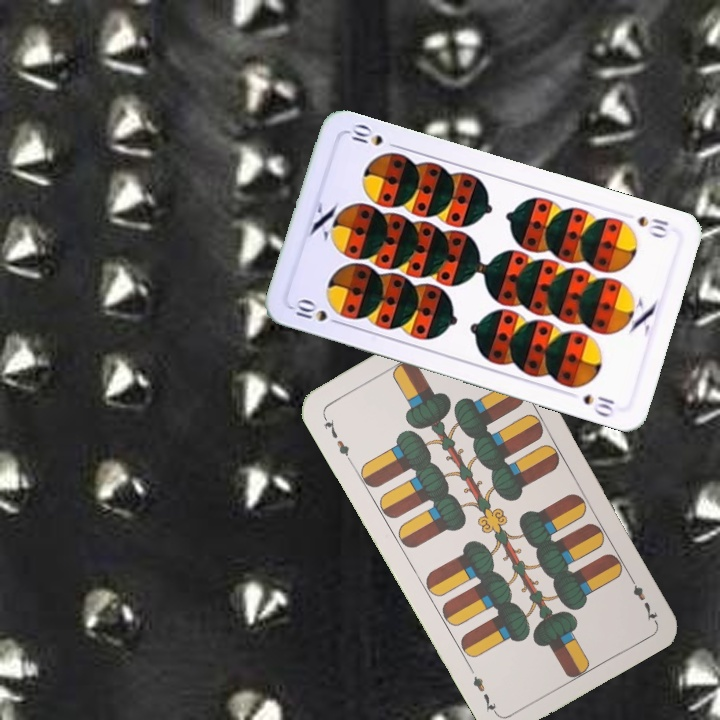E7: (318, 411, 354, 465), (624, 570, 660, 624)
S10: (291, 296, 345, 328), (634, 212, 671, 241)
